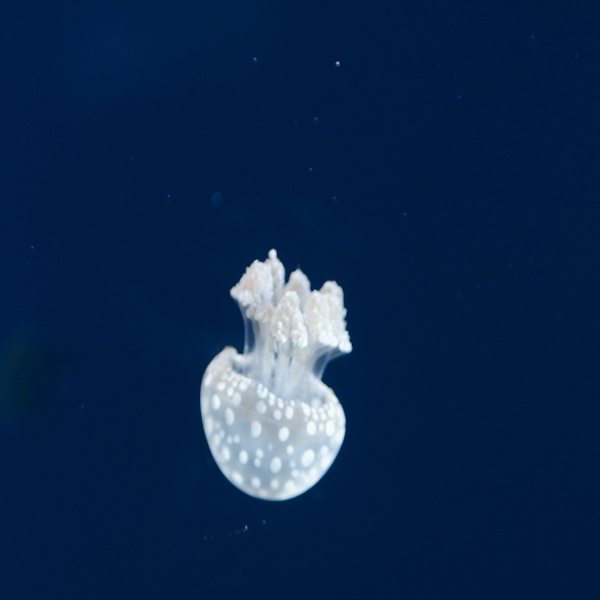Jellyfish: (197, 243, 353, 504)
